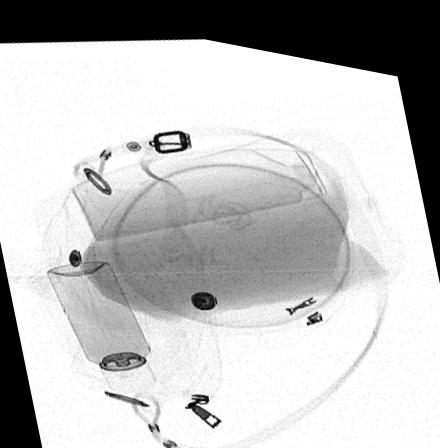Sprayer: (45, 256, 155, 387)
